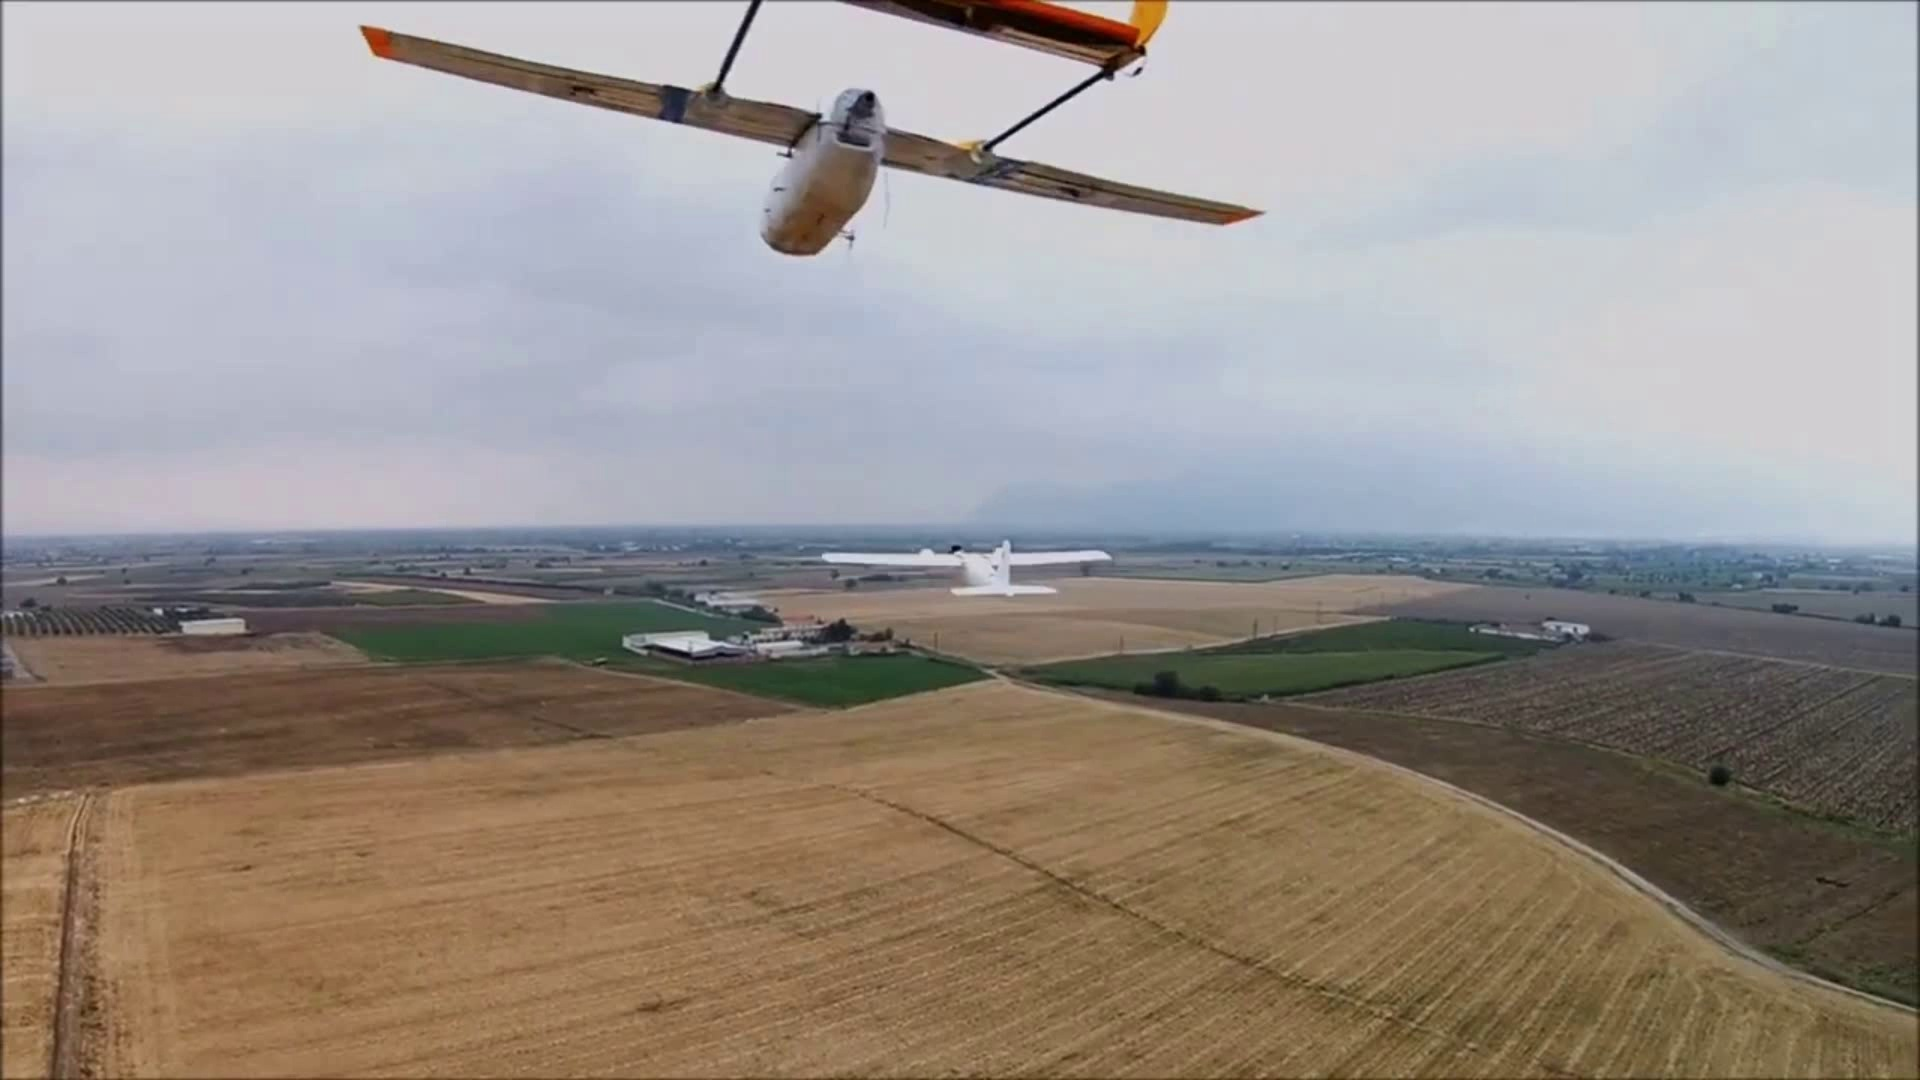airplane: (357, 5, 1266, 258)
